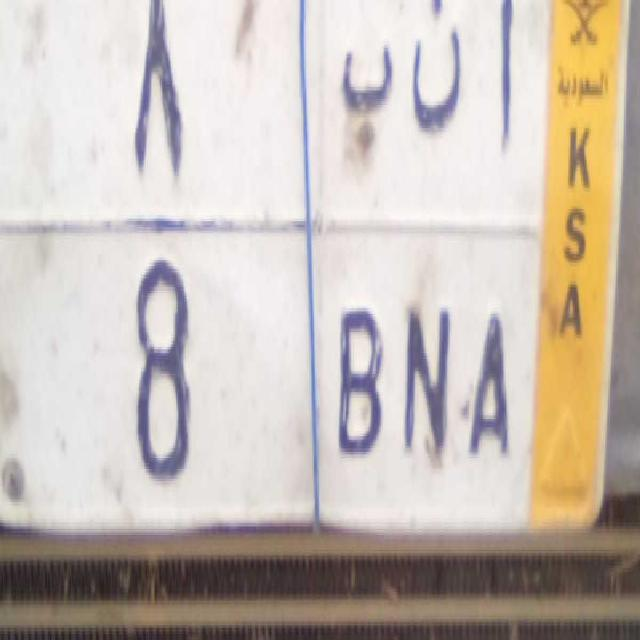license_plate: (0, 222, 536, 549)
